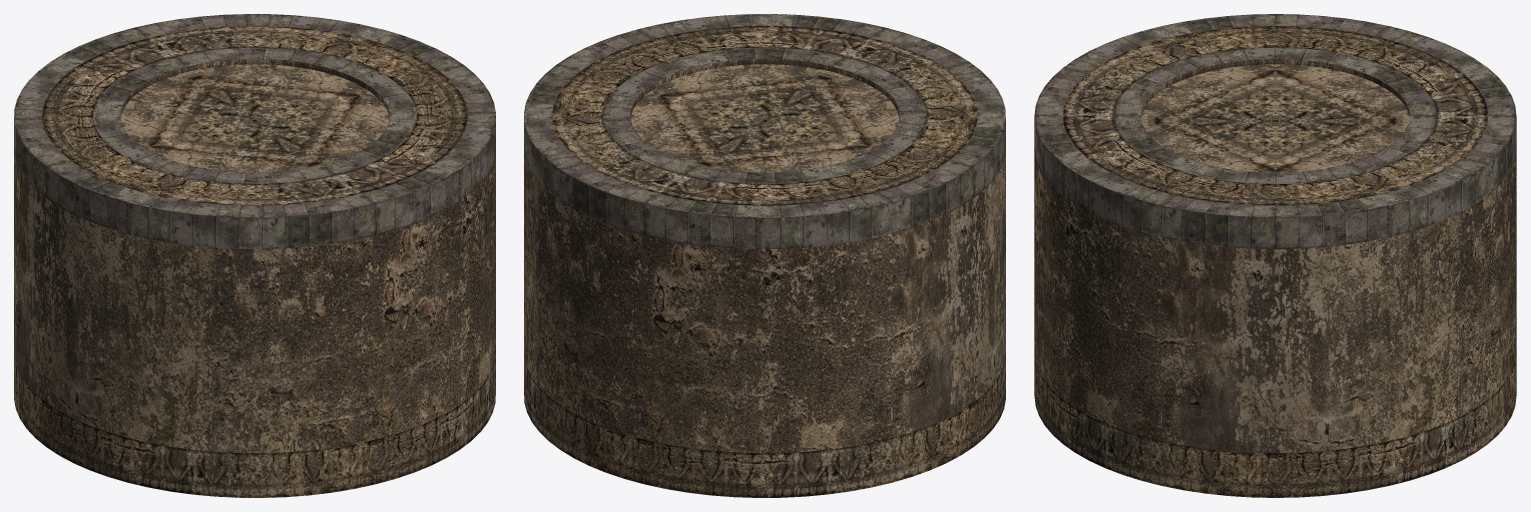
The model's file is materials_5_pillar_fat_7.fbx.
3 views of the same model, side by side, from view 1: azimuth 30°, elevation 25°; view 2: azimuth 150°, elevation 25°; view 3: azimuth 270°, elevation 25° (orthographic).
Visible parts, largest first — view 1: materials_5_pillar_fat_7; view 2: materials_5_pillar_fat_7; view 3: materials_5_pillar_fat_7.
Part boxes in pixels (<box>): materials_5_pillar_fat_7: <box>14,14,495,497</box>; materials_5_pillar_fat_7: <box>524,14,1005,497</box>; materials_5_pillar_fat_7: <box>1034,14,1516,497</box>.
Bounding box in the file's own units: 135 × 86.4 × 135.
